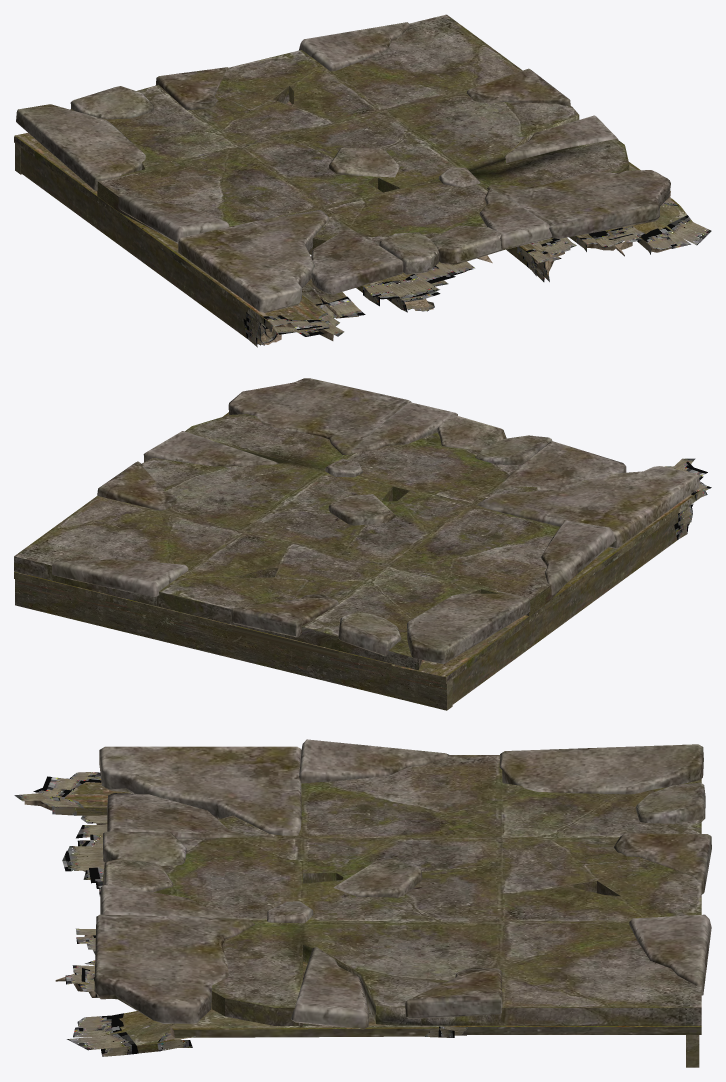
Rendered from jungle_ruins_floor_300x300_a.glb.
3 views of the same model, one above another, from view 1: azimuth 30°, elevation 25°; view 2: azimuth 150°, elevation 25°; view 3: azimuth 270°, elevation 25° (orthographic). The views are drawn at different scales.
Visible parts, largest first — view 1: jungle_ruins_floor_300x300_a_LOD0; view 2: jungle_ruins_floor_300x300_a_LOD0; view 3: jungle_ruins_floor_300x300_a_LOD0.
Part boxes in pixels (bbox=[...]): jungle_ruins_floor_300x300_a_LOD0: bbox=[14, 14, 711, 347]; jungle_ruins_floor_300x300_a_LOD0: bbox=[14, 378, 711, 710]; jungle_ruins_floor_300x300_a_LOD0: bbox=[14, 739, 711, 1067].
Bounding box in the file's own units: 3.1 × 0.4753 × 3.5.
5 materials, 5 textured.
